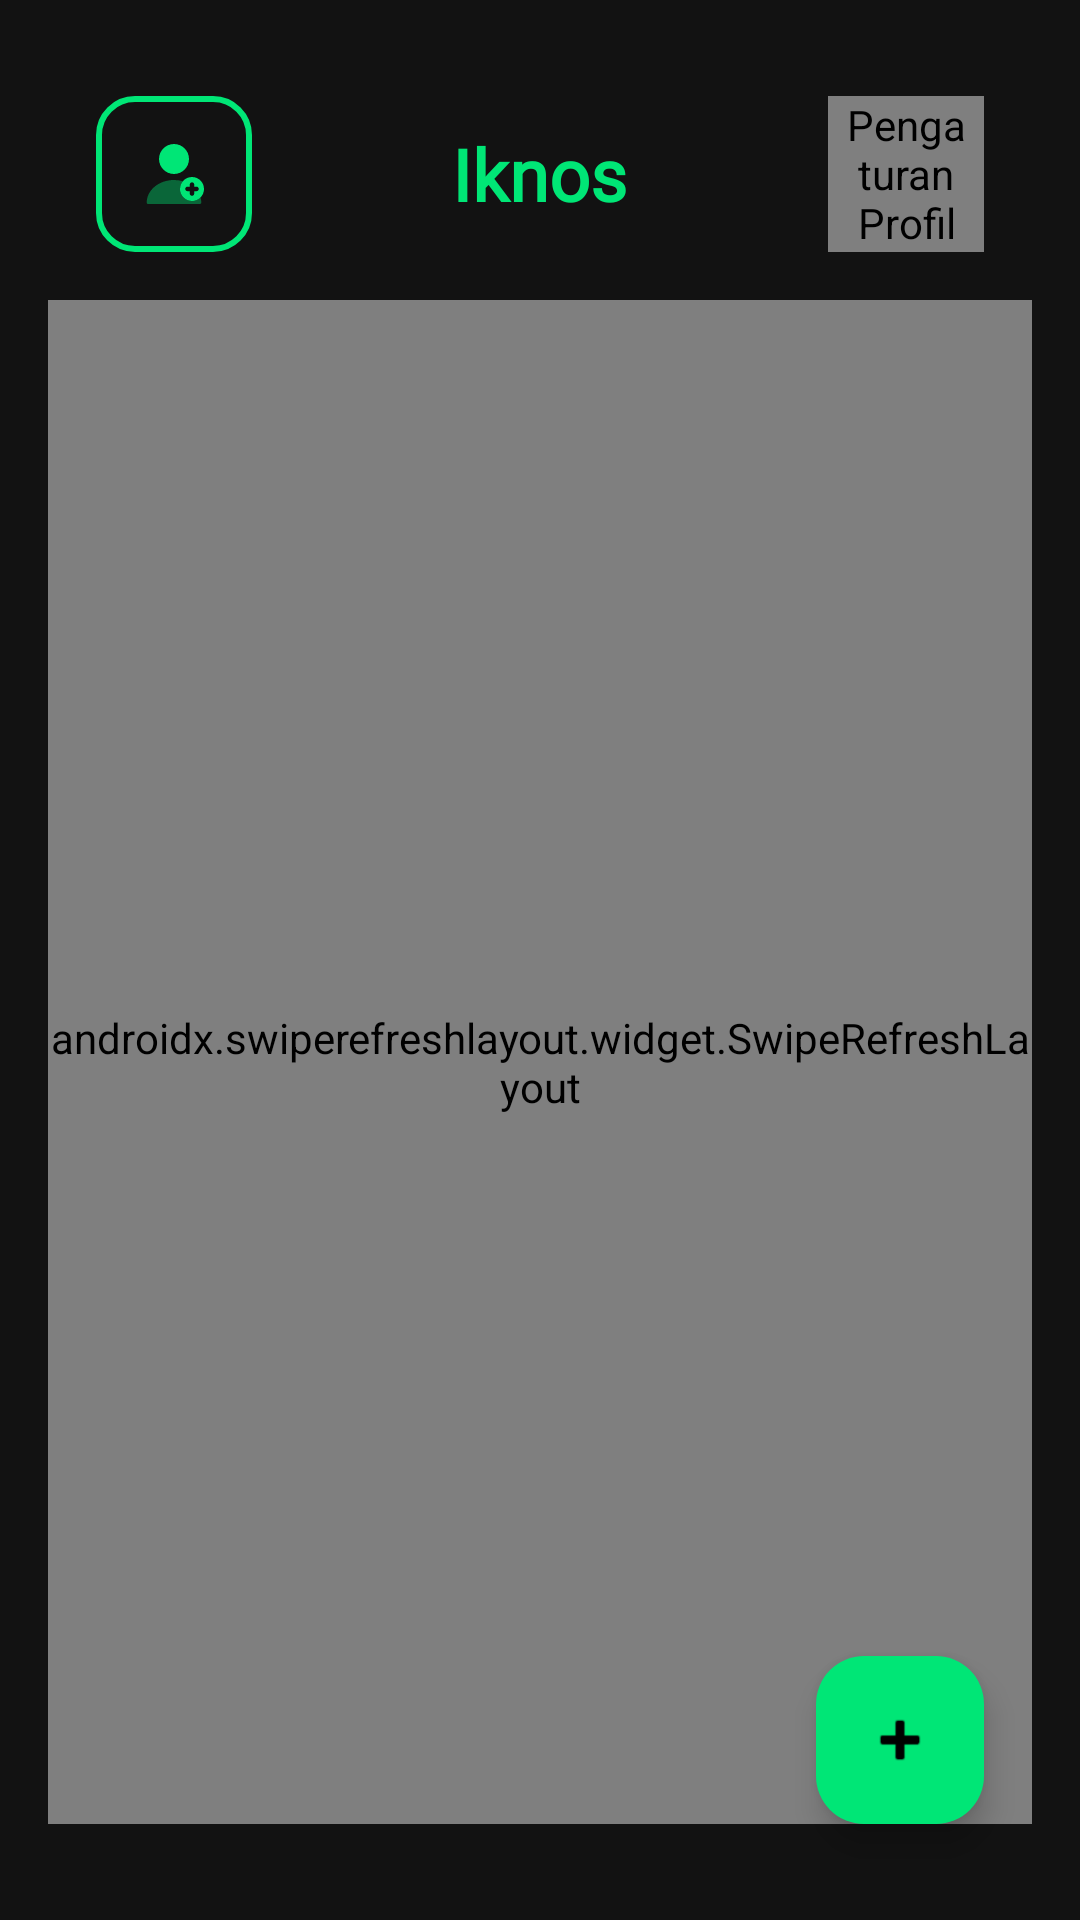

Icon bounding boxes for this 1080px x 1920px phone screenshot, format (left=x1, top=y1, right=x2, bottom=y2):
Daftar Permintaan: (left=96, top=96, right=252, bottom=252)
Tambah Room: (left=816, top=1656, right=984, bottom=1824)
